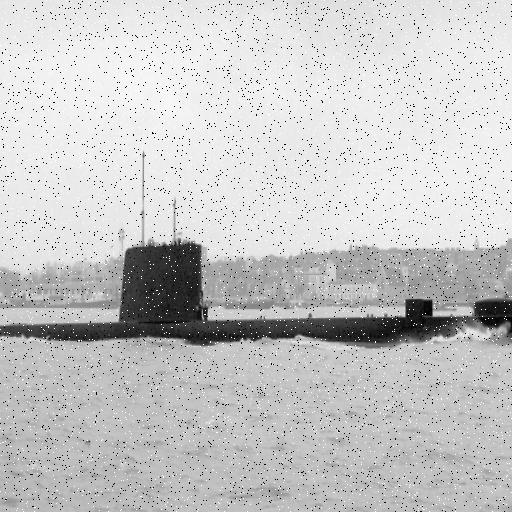submarine: (1, 243, 512, 342)
